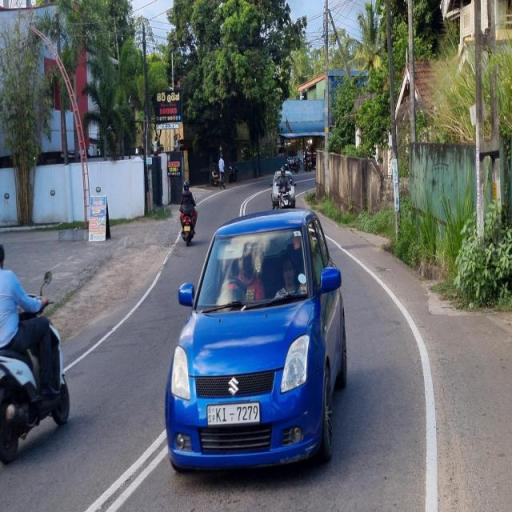double_white_line: (84, 429, 166, 512)
